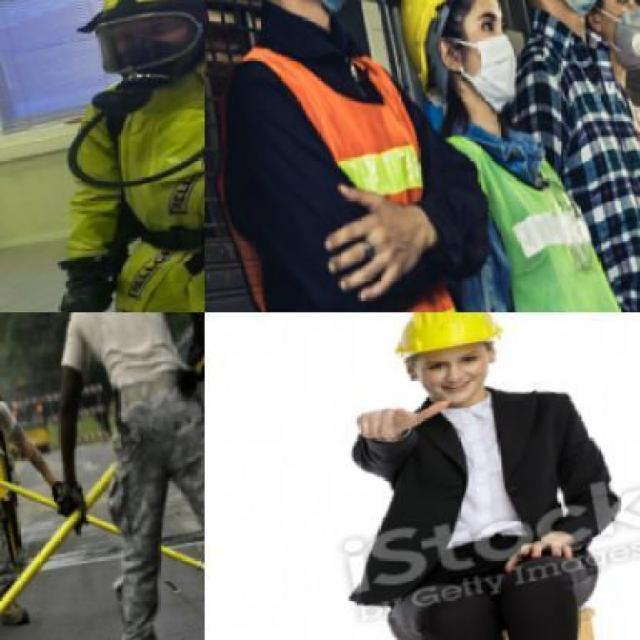hat: (376, 312, 526, 390), (376, 0, 510, 42)
